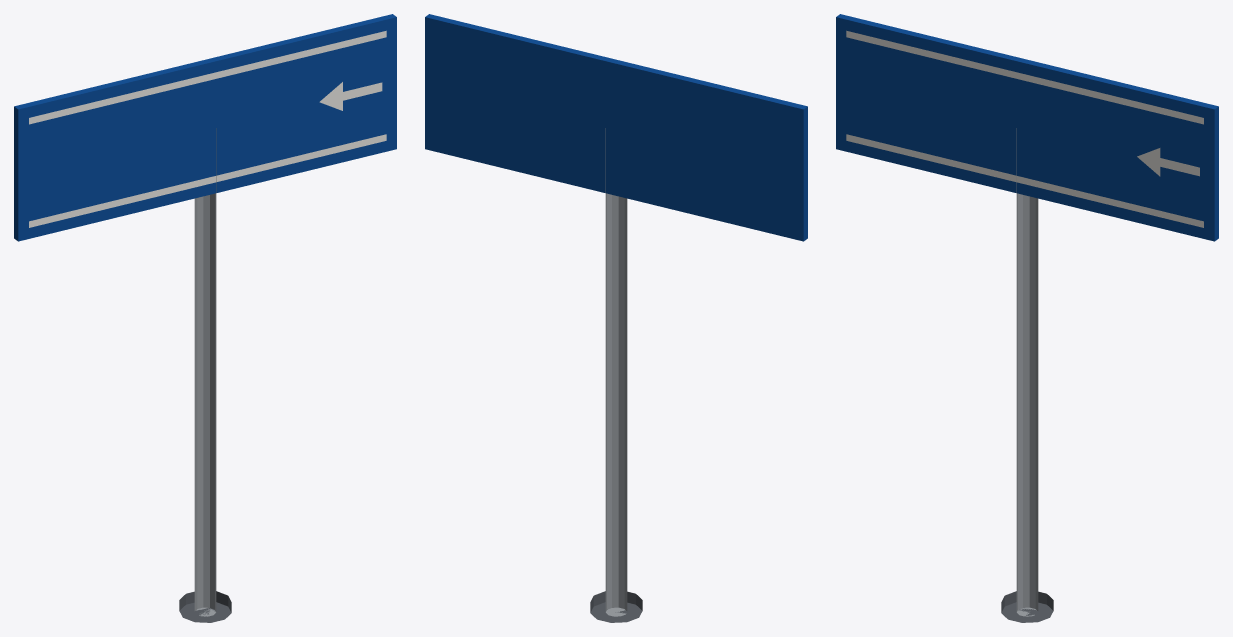
File: sign-guide.glb
3 views of the same model, side by side, from view 1: azimuth 30°, elevation 25°; view 2: azimuth 150°, elevation 25°; view 3: azimuth 330°, elevation 25° (orthographic).
Visible parts, largest first — view 1: sign-guide; view 2: sign-guide; view 3: sign-guide.
Boxes of the visible parts, x1=… form: sign-guide: x1=14, y1=14, x2=396, y2=622; sign-guide: x1=425, y1=14, x2=807, y2=622; sign-guide: x1=836, y1=14, x2=1218, y2=622.
Size of the model in its own units: 1.8 by 2.5 by 0.2054.
